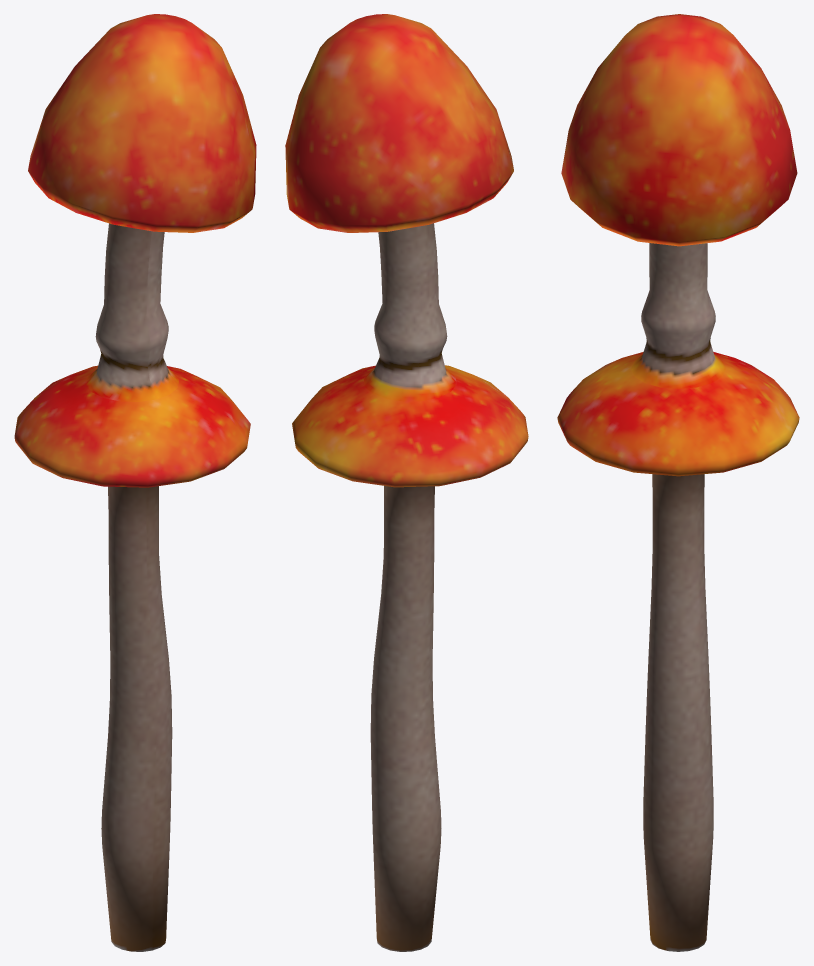
Rendered from Hongo4.obj.
3 renders of one model, left to right at view 1: azimuth 30°, elevation 25°; view 2: azimuth 150°, elevation 25°; view 3: azimuth 270°, elevation 25°, orthographic.
Visible parts, largest first — view 1: Circle.002_Circle.003; view 2: Circle.002_Circle.003; view 3: Circle.002_Circle.003.
Boxes of the visible parts, x1,y1,x2,y2 form: Circle.002_Circle.003: [14, 14, 256, 951]; Circle.002_Circle.003: [285, 14, 528, 951]; Circle.002_Circle.003: [557, 14, 799, 951].
Size of the model in its own units: 0.8939 by 3.65 by 0.8637.
Materials: 1 (1 with a texture image).
